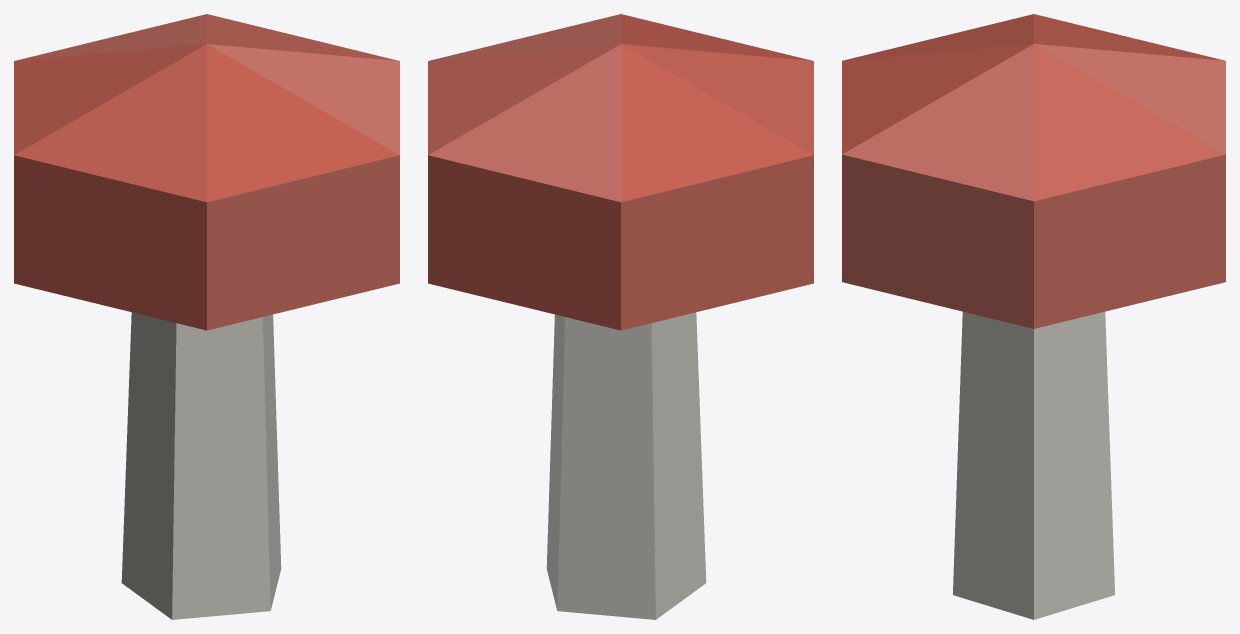
The model's file is mushroom.glb.
3 views of the same model, side by side, from view 1: azimuth 30°, elevation 25°; view 2: azimuth 150°, elevation 25°; view 3: azimuth 270°, elevation 25° (orthographic).
Visible parts, largest first — view 1: mushroom2; view 2: mushroom2; view 3: mushroom2.
Part boxes in pixels (bbox=[...]): mushroom2: bbox=[14, 14, 399, 619]; mushroom2: bbox=[428, 14, 813, 619]; mushroom2: bbox=[842, 14, 1225, 619].
Size of the model in its own units: 0.3118 by 0.419 by 0.27.
